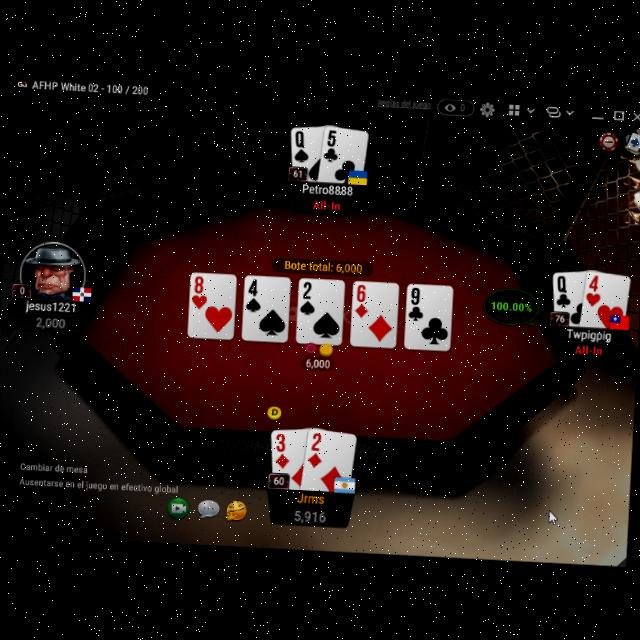2d: (306, 428, 327, 468)
2s: (298, 278, 318, 316)
3d: (274, 429, 294, 468)
4h: (584, 272, 604, 308)
4s: (243, 276, 264, 314)
5c: (322, 125, 342, 163)
6d: (354, 280, 372, 318)
8d: (273, 430, 295, 469)
8h: (190, 272, 210, 310)
9c: (407, 282, 427, 322)
9d: (353, 280, 371, 318)
Jh: (584, 272, 604, 308)
Qc: (554, 272, 574, 308)
Qs: (292, 126, 312, 164)
all_in_symbol: (312, 196, 342, 212), (574, 341, 604, 355)
bet_text: (304, 354, 332, 368)
dealer: (265, 402, 283, 419)
pot_text: (284, 258, 364, 272)
stack_text: (291, 505, 329, 524), (35, 313, 68, 329)
